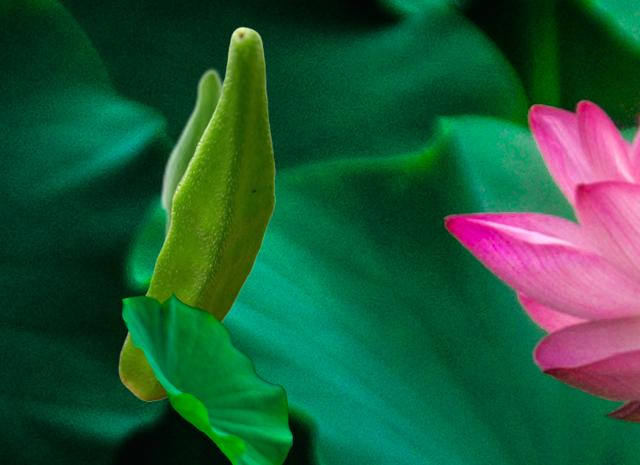okra: (118, 26, 274, 400), (152, 67, 224, 271)
